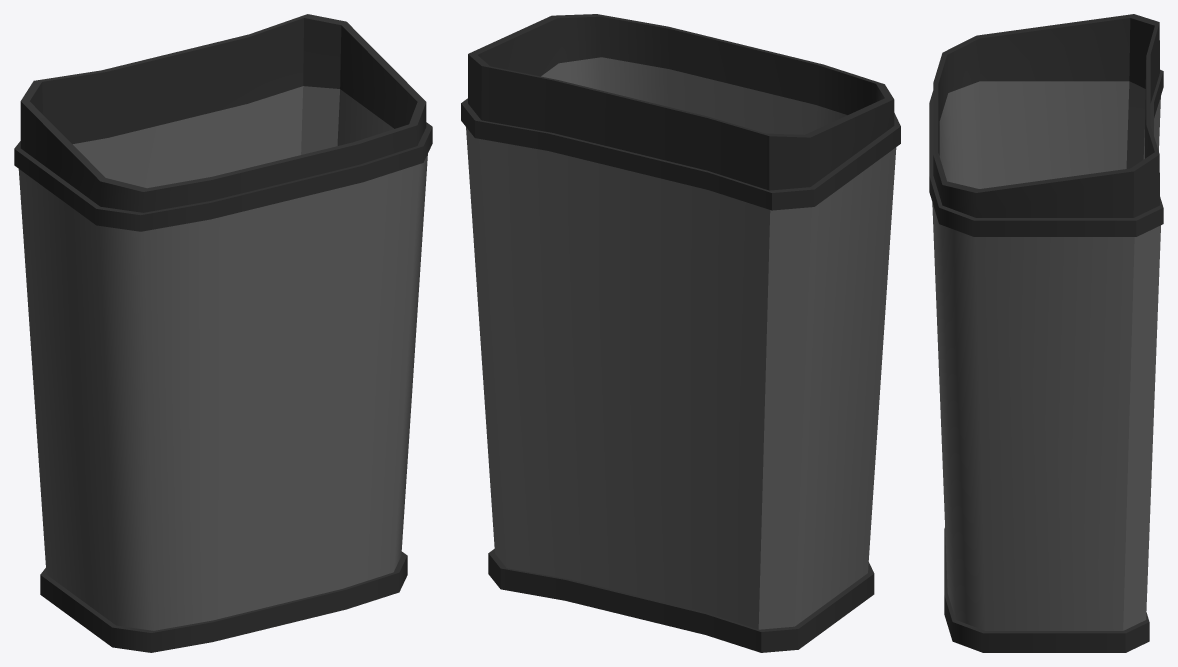
The model's file is Trashcan_Small1.glb.
The picture shows the model from 3 angles, left to right: view 1: azimuth 30°, elevation 25°; view 2: azimuth 150°, elevation 25°; view 3: azimuth 270°, elevation 25°; orthographic projection. The views are drawn at different scales.
Parts seen in each view (by area): view 1: Trashcan_Small1; view 2: Trashcan_Small1; view 3: Trashcan_Small1.
Boxes of the visible parts, x1=… form: Trashcan_Small1: x1=14, y1=14, x2=432, y2=652; Trashcan_Small1: x1=461, y1=14, x2=900, y2=652; Trashcan_Small1: x1=929, y1=14, x2=1163, y2=652.
Bounding box in the file's own units: 0.246 × 0.3484 × 0.1497.
2 materials, 2 textured.
